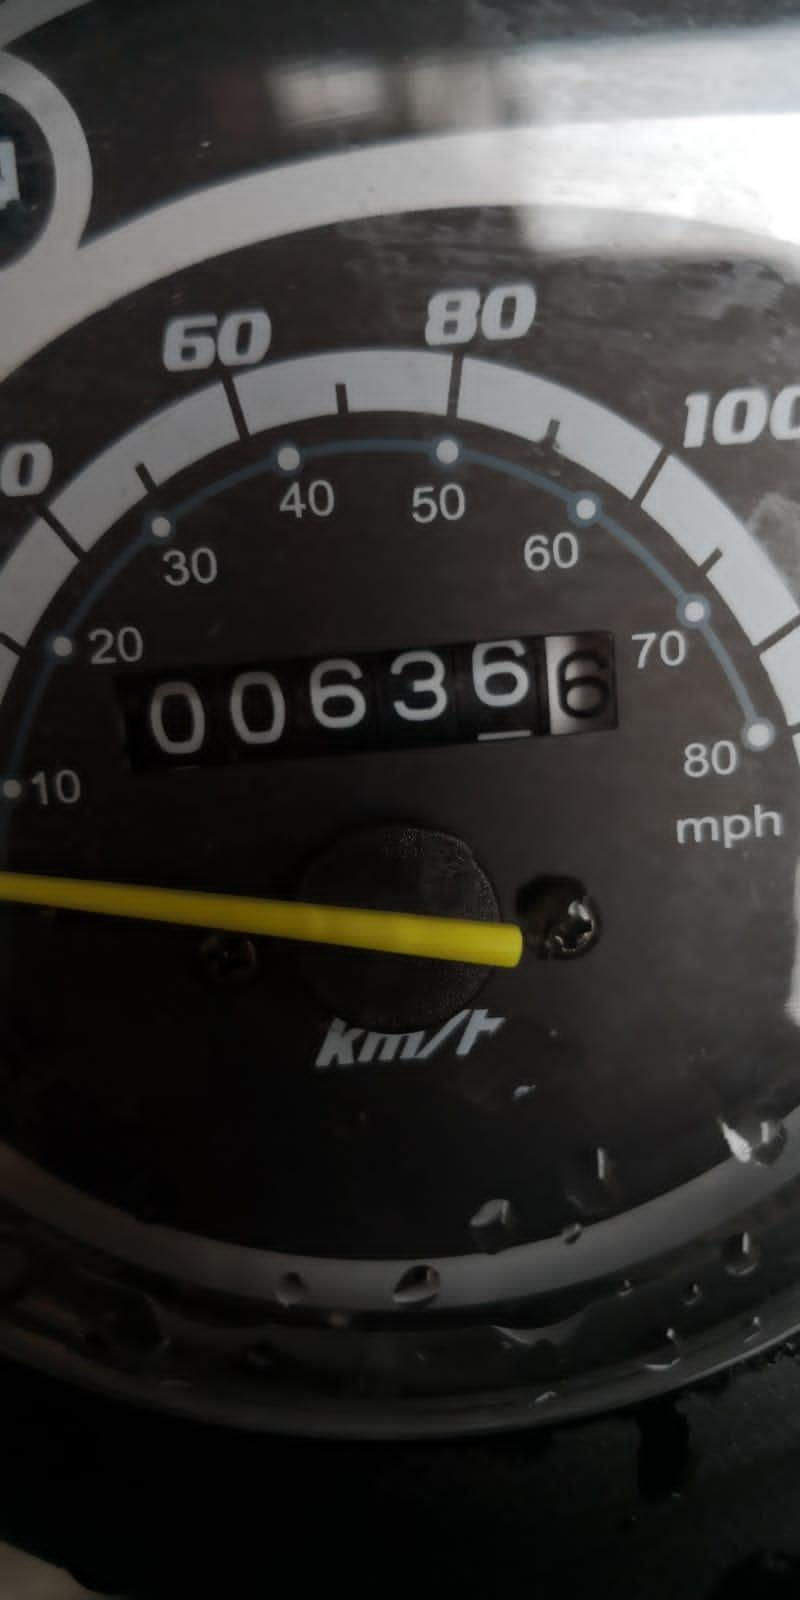0: (142, 676, 210, 759), (221, 666, 289, 747), (115, 624, 145, 663)
3: (386, 647, 451, 724)
6: (303, 654, 370, 732), (465, 638, 535, 709), (552, 645, 615, 720)
odometer: (109, 621, 629, 783)
